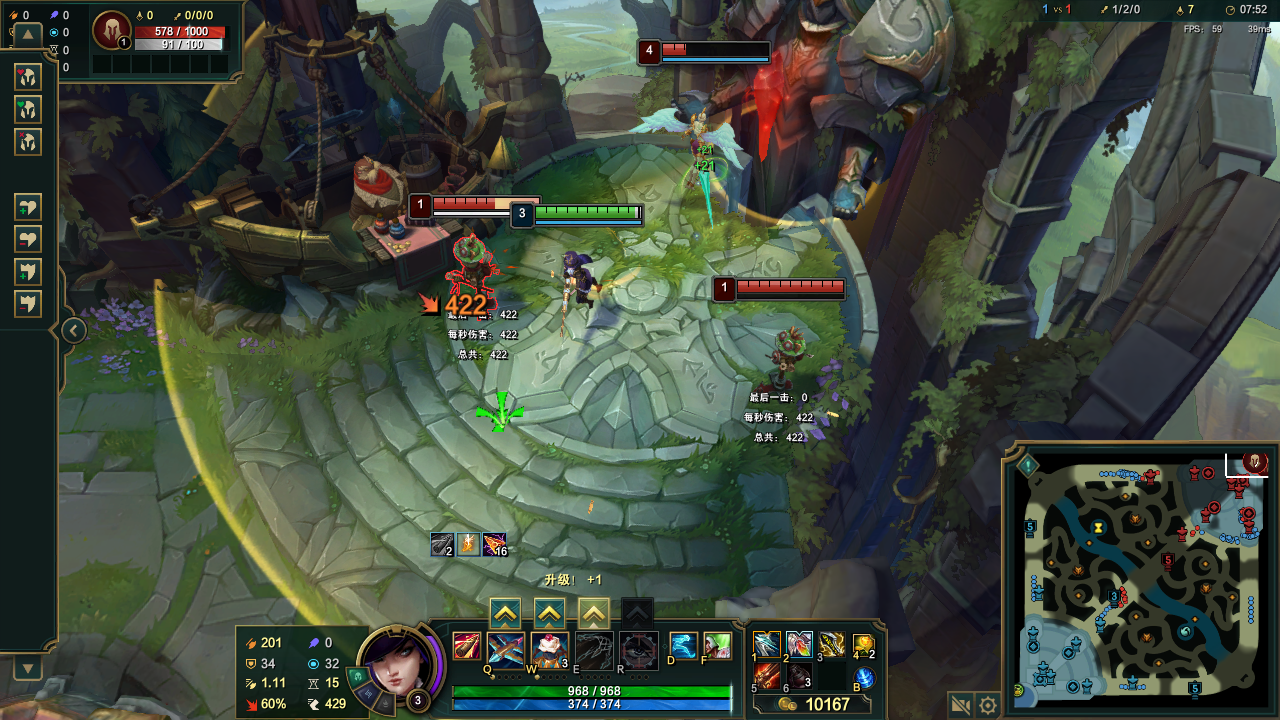DFYX: (658, 40, 772, 56), (736, 280, 852, 292), (436, 197, 511, 208)
